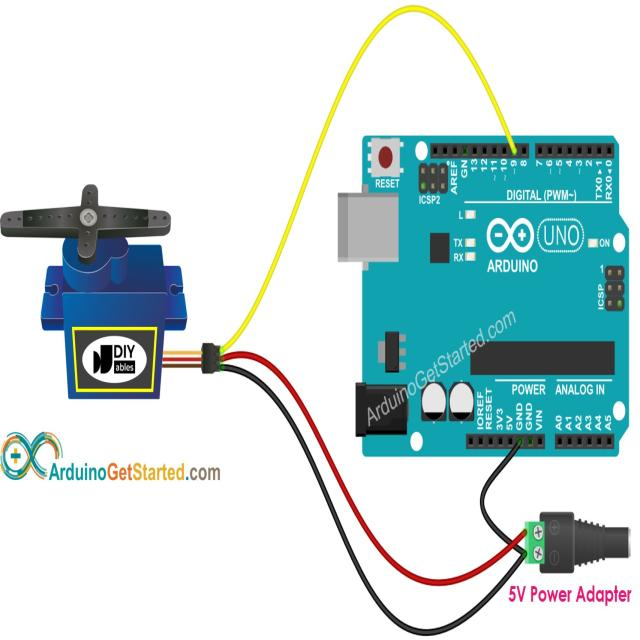servomotor: (5, 170, 223, 420)
